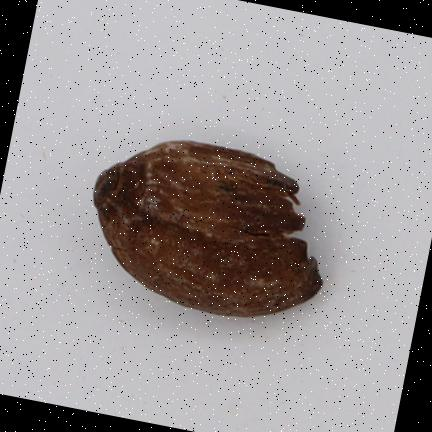full-black: (94, 141, 322, 316)
